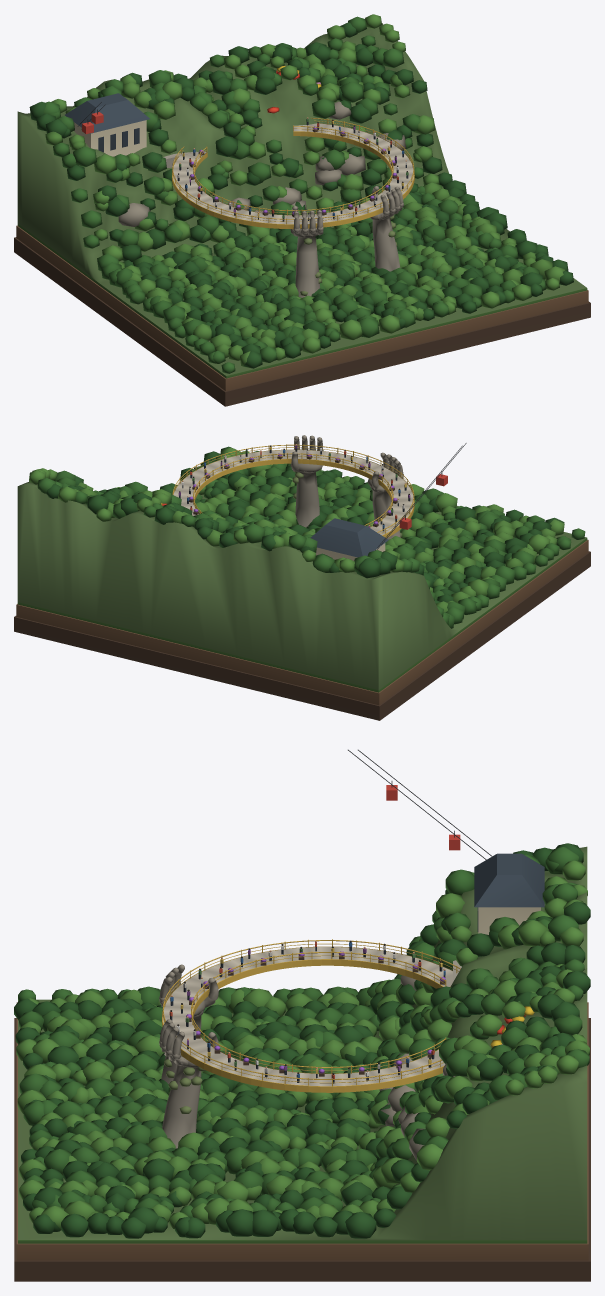
Rendered from cau-vang.glb.
The picture shows the model from 3 angles, top to bottom: view 1: azimuth 30°, elevation 25°; view 2: azimuth 150°, elevation 25°; view 3: azimuth 270°, elevation 25°; orthographic projection. The views are drawn at different scales.
Visible parts, largest first — view 1: CV_CV_base; view 2: CV_CV_base; view 3: CV_CV_base.
Boxes of the visible parts, x1,y1,x2,y2 form: CV_CV_base: [14, 14, 590, 406]; CV_CV_base: [14, 435, 590, 720]; CV_CV_base: [14, 749, 590, 1281].
Size of the model in its own units: 92.33 by 51.05 by 92.06.
1 material, 1 textured.
